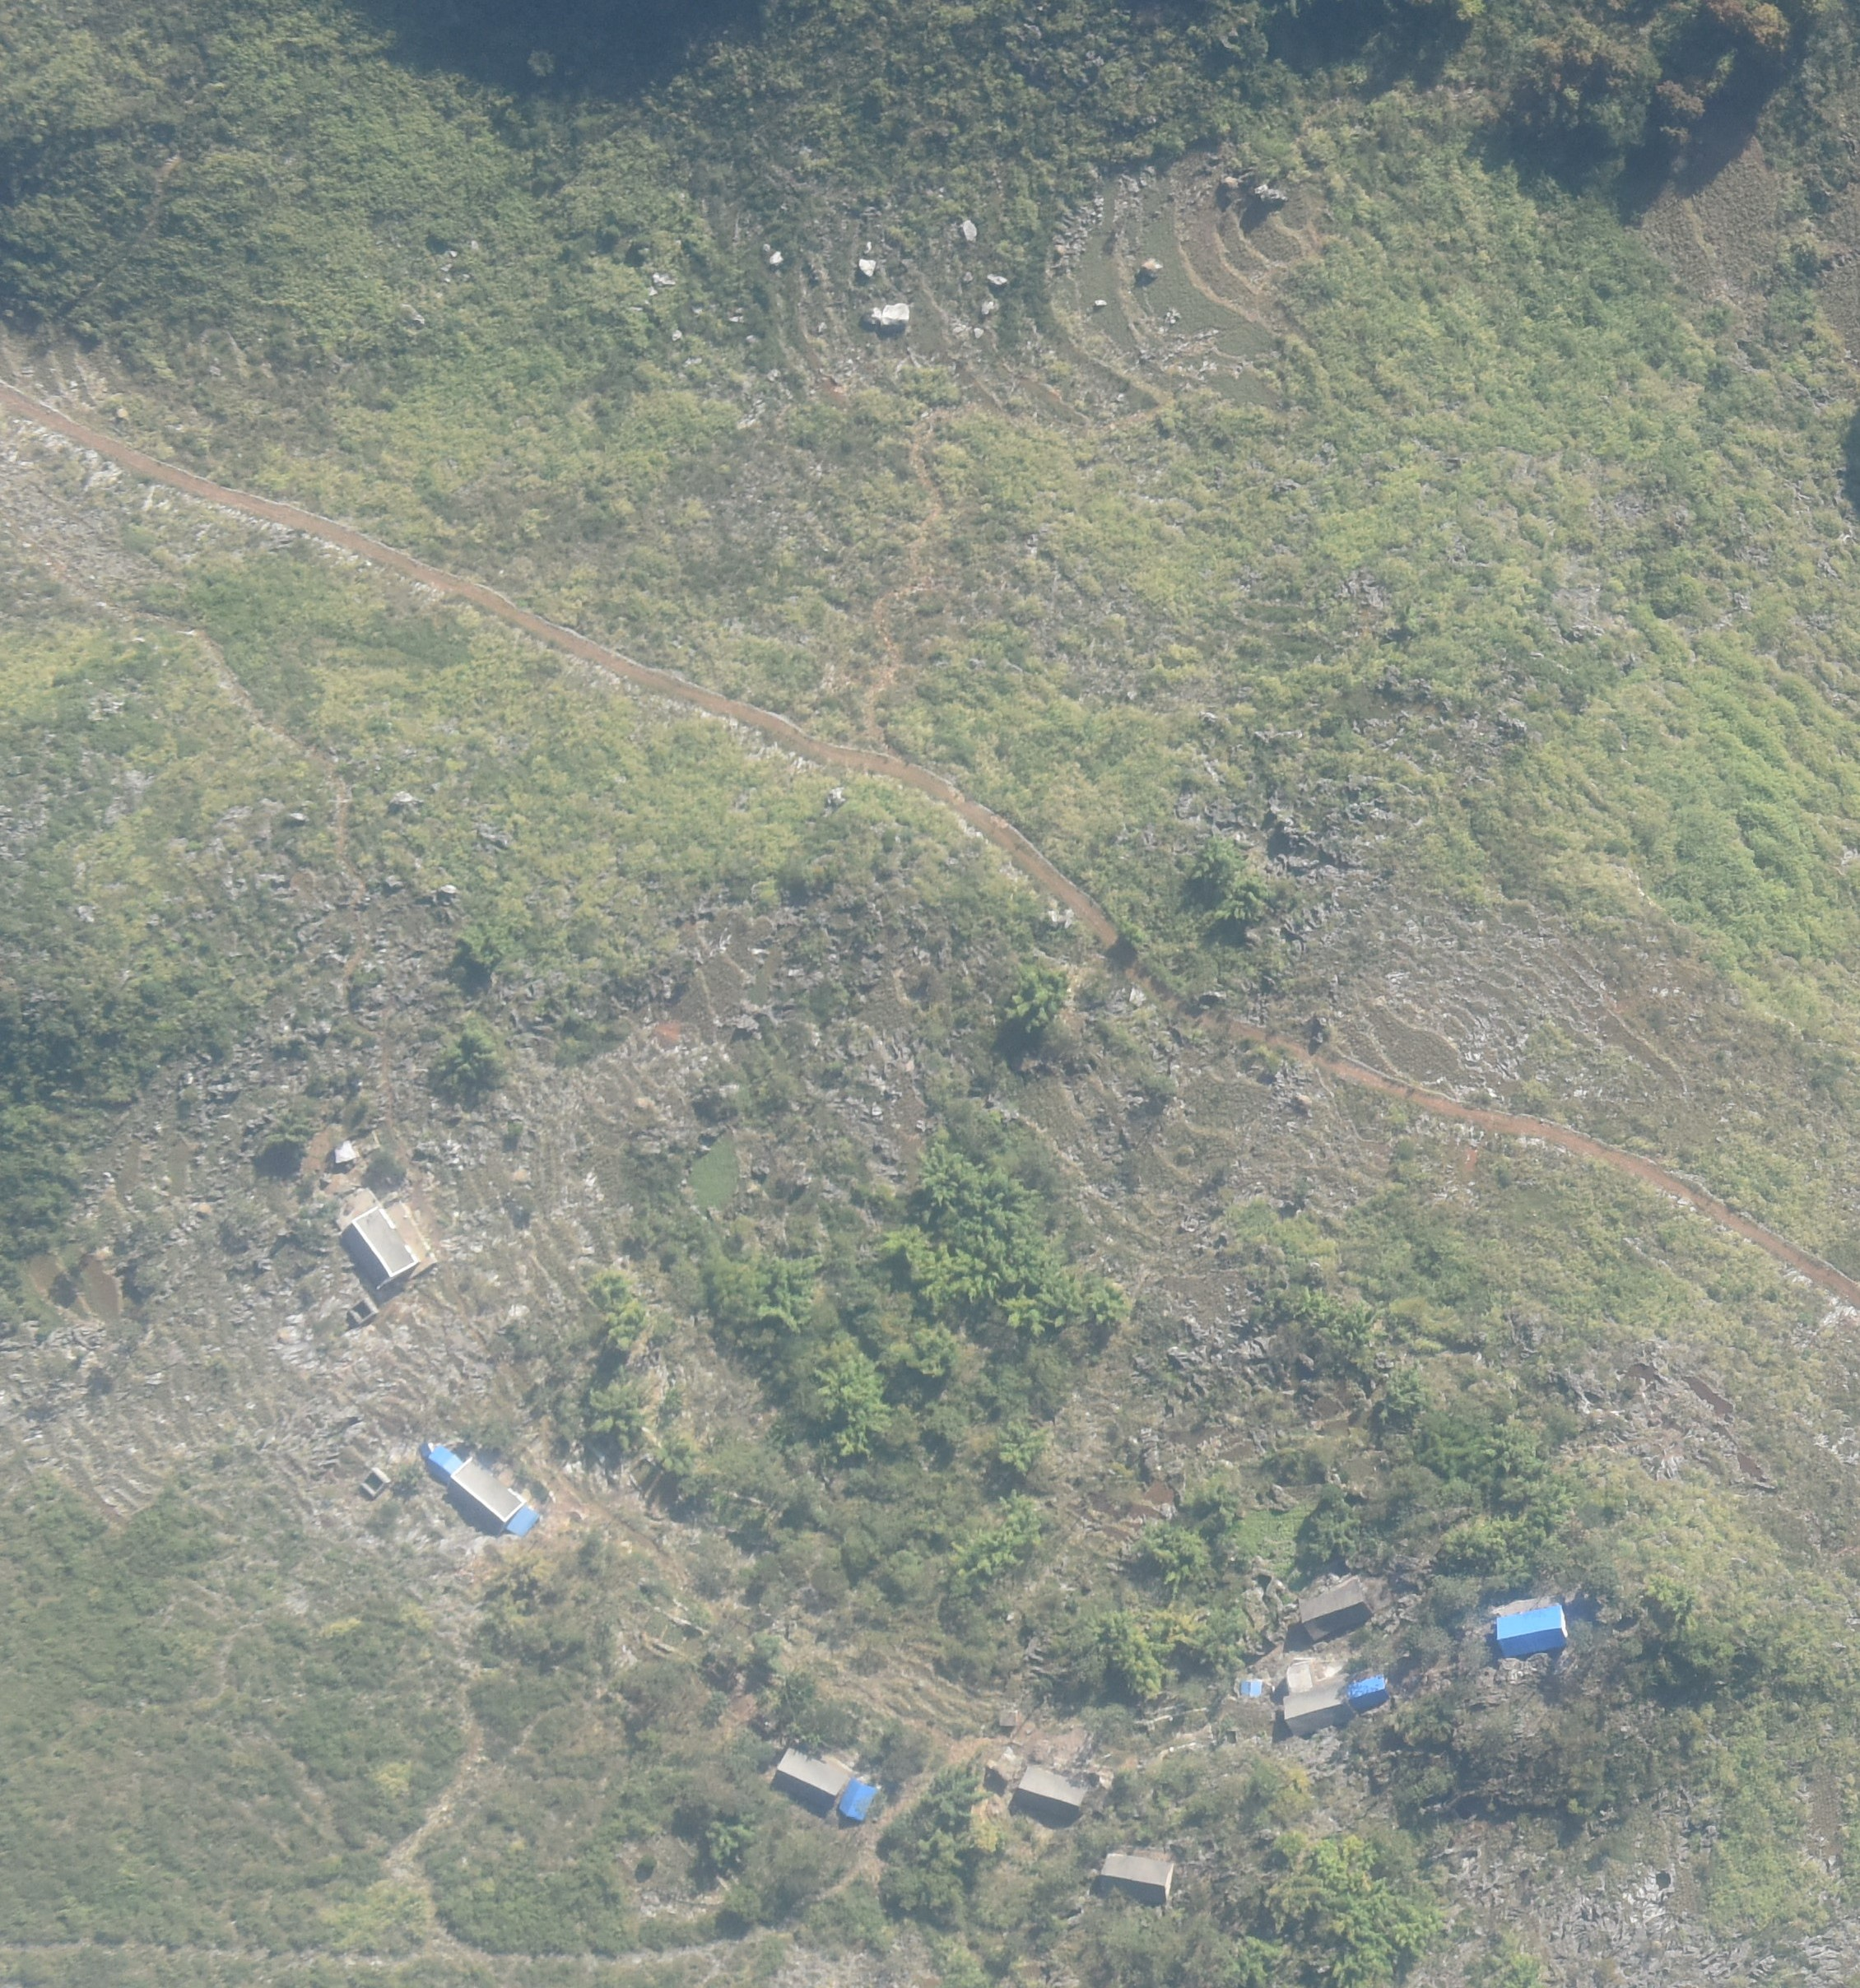building: (345, 1204, 416, 1289), (449, 1456, 525, 1530), (1283, 1665, 1351, 1736), (1298, 1581, 1374, 1638), (1099, 1851, 1176, 1907), (777, 1747, 853, 1798), (1012, 1764, 1088, 1810), (999, 1709, 1016, 1726)
prefabricated-house: (1494, 1606, 1568, 1654), (1346, 1674, 1390, 1711), (838, 1781, 876, 1821), (505, 1502, 538, 1538), (426, 1444, 462, 1476), (1238, 1679, 1262, 1698)
